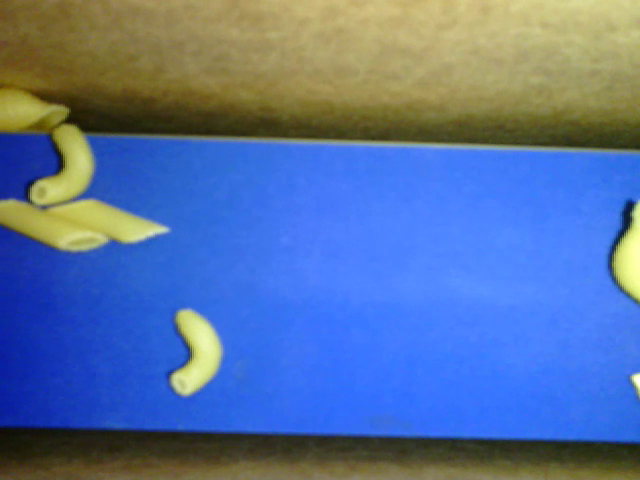elbow: (27, 123, 92, 203), (170, 305, 221, 398)
penne: (1, 195, 111, 253), (41, 199, 170, 244)
shell: (607, 197, 639, 305), (1, 85, 69, 133)
